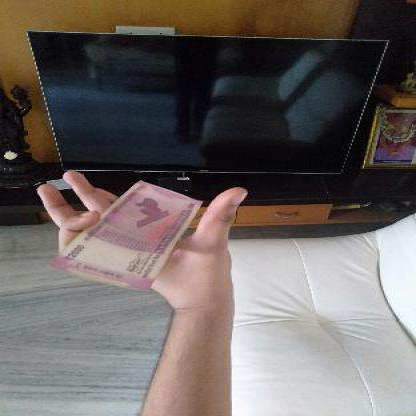New2000Back: (45, 179, 206, 287)
